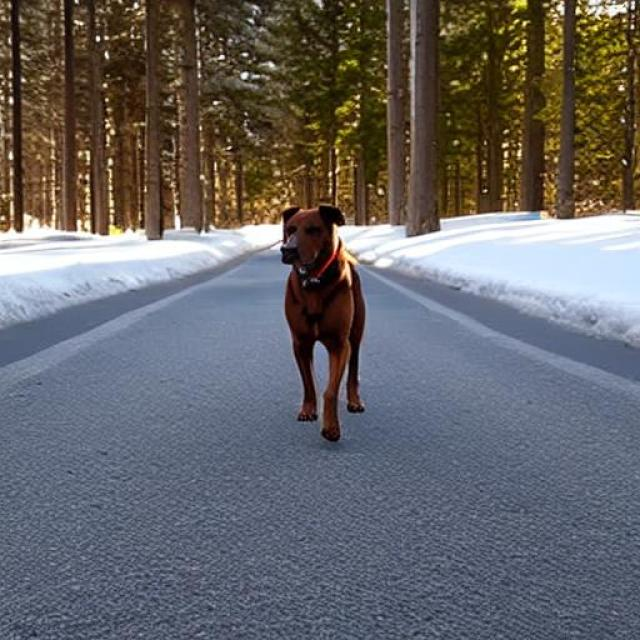Dog: (280, 204, 366, 442)
